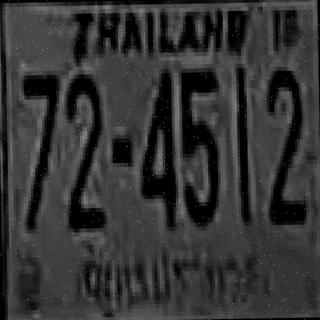N01: (233, 63, 249, 221)
N02: (264, 64, 305, 223), (65, 74, 102, 228)
N04: (138, 68, 176, 223)
N05: (178, 66, 219, 224)
N07: (21, 72, 58, 227), (21, 70, 58, 180)
